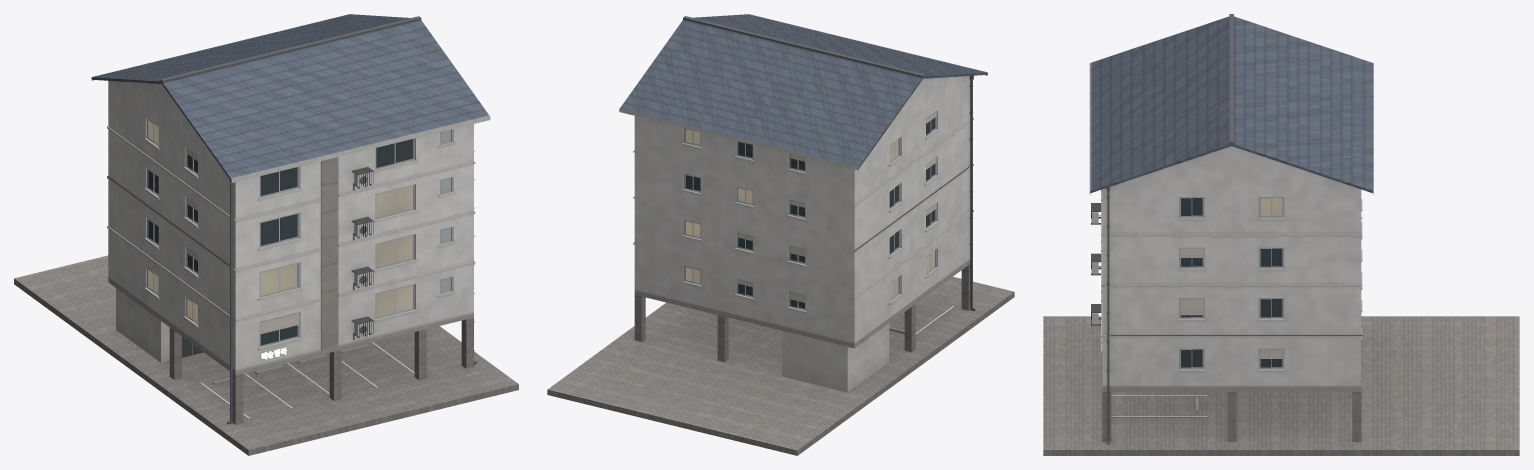
The model's file is IlsanVilla01.fbx.
The picture shows the model from 3 angles, left to right: view 1: azimuth 30°, elevation 25°; view 2: azimuth 150°, elevation 25°; view 3: azimuth 270°, elevation 25°; orthographic projection. The views are drawn at different scales.
Parts seen in each view (by area): view 1: IlsanVilla01; view 2: IlsanVilla01; view 3: IlsanVilla01.
Part boxes in pixels (x1,y1,x2,y2): IlsanVilla01: [14, 14, 518, 455]; IlsanVilla01: [547, 14, 1014, 455]; IlsanVilla01: [1043, 14, 1519, 455].
Bounding box in the file's own units: 15.9 × 17.23 × 23.9.
Materials: 1 (1 with a texture image).
